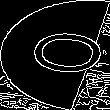O_E: (7, 28, 103, 82)
